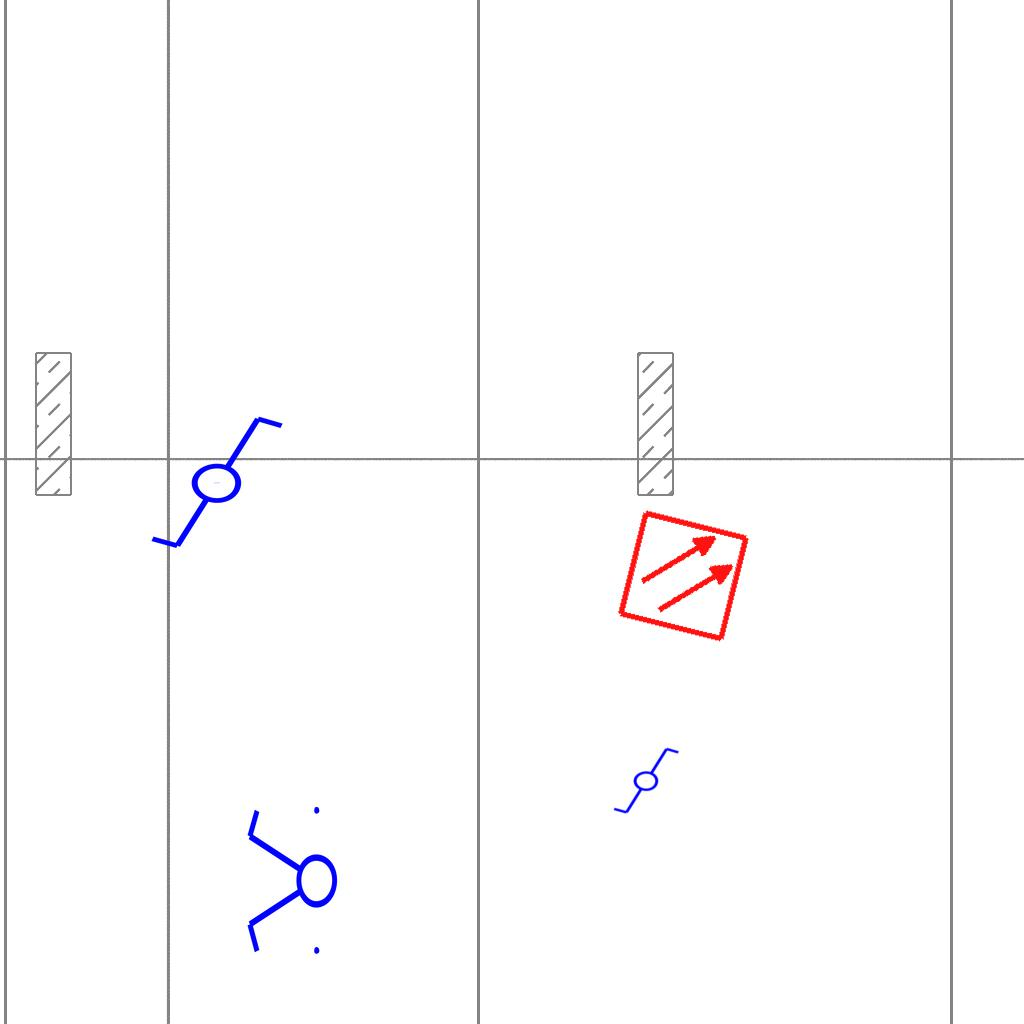RMO_Rauchmelder_optischer: (615, 507, 752, 644)
Serienschalter: (243, 798, 339, 966)
Wechselschalter: (130, 409, 287, 553), (603, 744, 681, 816)
